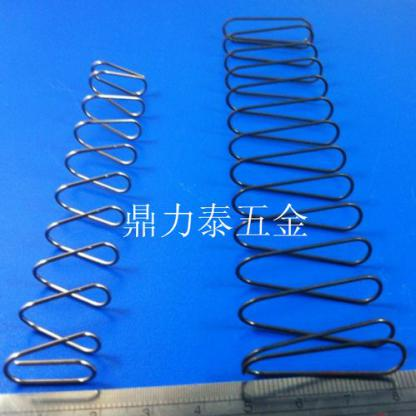FOD: (220, 14, 408, 384), (1, 52, 150, 390)
